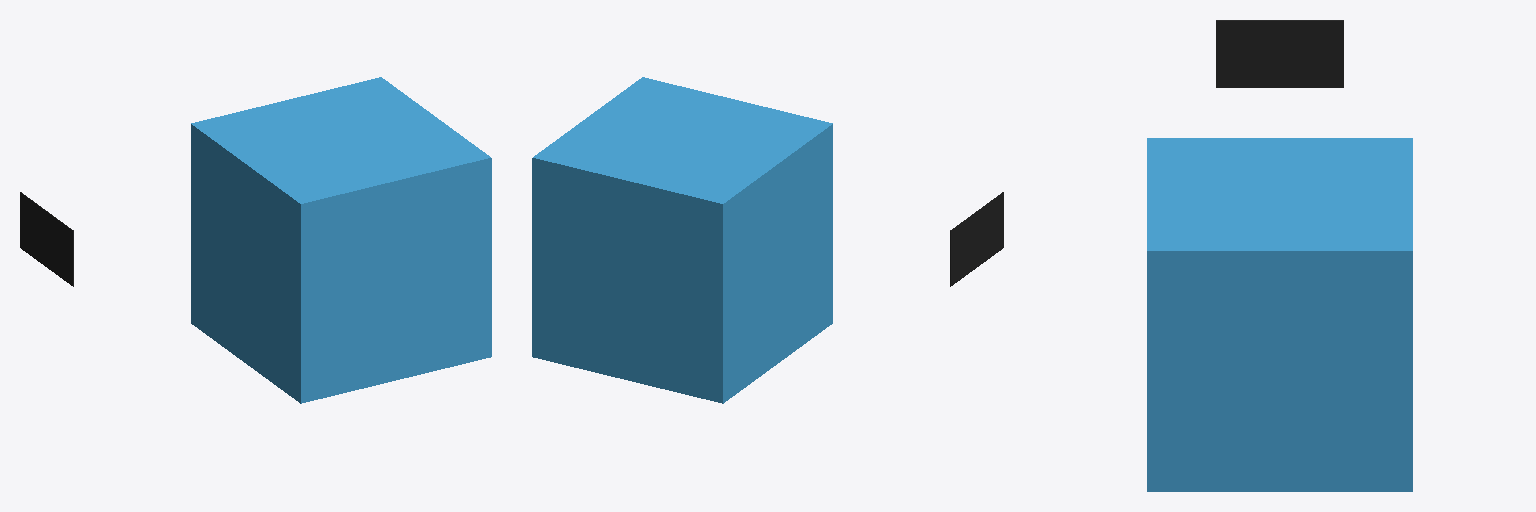
robot.urdf — combined:
<?xml version="1.0" encoding="utf-8"?>
<!-- =================================================================================== -->
<!-- |    This document was autogenerated by xacro from ur5_robot.urdf.xacro           | -->
<!-- |    EDITING THIS FILE BY HAND IS NOT RECOMMENDED                                 | -->
<!-- =================================================================================== -->
<robot name="combined">
  <!--robots pose-->
  <link name="world"/>
  <joint name="sawyer_pose" type="fixed">
    <origin rpy="0 0 0" xyz="0. 0. .9"/><!--sawyer base-->
    <parent link="world"/>
    <child link="sawyer_pedestal"/>
  </joint>

  <link name="obstacle">
    <inertial>
      <mass value="0"/>
      <origin rpy="0 0 0" xyz="0 0 0"/>
      <inertia ixx="0" ixy="0" ixz="0" iyy="0" iyz="0" izz="0"/>
    </inertial>
    <collision>
      <origin rpy="0 0 0" xyz="0  0     0"/>
      <geometry>
        <box size="0.5 0.5 0.5"/>
      </geometry>
    </collision>
    <visual>
      <origin rpy="0 0 0" xyz="0    0    0"/>
      <geometry>
        <box size="0.5 0.5 0.5"/>
      </geometry>
    </visual>
  </link>
  <joint name="obstacle_joint" type="fixed">
    <parent link="world"/>
    <child link="obstacle"/>
    <origin rpy="0 0 0" xyz="0.8 0.0 1.2"/>
  </joint>


<!-- robot urdf start here -->
  <material name="black">
    <color rgba="0 0 0 1"/>
  </material>
  <material name="darkgray">
    <color rgba=".2 .2 .2 1"/>
  </material>
  <material name="darkred">
    <color rgba=".5 .1 .1 1"/>
  </material>
  <material name="sawyer_red">
    <color rgba=".5 .1 .1 1"/>
  </material>
  <material name="sawyer_gray">
    <color rgba="0.75294 0.75294 0.75294 1"/>
  </material>
  <link name="sawyer_pedestal"/>
  <link name="torso">
    <visual>
      <origin rpy="0 0 0" xyz="0 0 0"/>
      <geometry>
        <box size="0.001 0.001 0.001"/>
      </geometry>
      <material name="darkgray">
        <color rgba=".2 .2 .2 1"/>
      </material>
    </visual>
    <inertial>
      <origin rpy="0 0 0" xyz="0.000000 0.000000 0.000000"/>
      <mass value="0.0001"/>
      <inertia ixx="1e-08" ixy="0" ixz="0" iyy="1e-08" iyz="0" izz="1e-08"/>
    </inertial>
  </link>
  <link name="pedestal">
    <visual>
      <origin rpy="1.57079632679 0 -1.57079632679" xyz="0.26 0.345 -0.91488"/>
      <geometry>
        <mesh filename="[local-path]/RR_Project/simulation/models/sawyer/meshes/sawyer_pv/pedestal.DAE"/>
      </geometry>
      <material name="darkgray"/>
    </visual>
    <collision>
      <origin rpy="0 0 0" xyz="-0.02 0 -0.29"/>
      <geometry>
        <cylinder length="0.62" radius="0.18"/>
      </geometry>
    </collision>
    <inertial>
      <origin rpy="0 0 0" xyz="0 0 -0.5"/>
      <mass value="60.86397744"/>
      <inertia ixx="5.0635929" ixy="0.00103417" ixz="0.80199628" iyy="6.08689388" iyz="0.00105311" izz="4.96191932"/>
    </inertial>
  </link>
  <link name="controller_box">
    <collision>
      <origin rpy="0 0 0" xyz="-0.325 0 -0.38"/>
      <geometry>
        <box size="0.22 0.4 0.53"/>
      </geometry>
    </collision>
  </link>
  <joint name="controller_box_fixed" type="fixed">
    <origin rpy="0 0 0" xyz="0.0 0.0 0.0"/>
    <parent link="sawyer_pedestal"/>
    <child link="controller_box"/>
  </joint>
  <link name="pedestal_feet">
    <collision>
      <origin rpy="0 0 0" xyz="-0.1225 0 -0.758"/>
      <geometry>
        <box size="0.77 0.7 0.31"/>
      </geometry>
    </collision>
  </link>
  <joint name="pedestal_feet_fixed" type="fixed">
    <origin rpy="0 0 0" xyz="0.0 0.0 0.0"/>
    <parent link="sawyer_pedestal"/>
    <child link="pedestal_feet"/>
  </joint>
  <joint name="pedestal_fixed" type="fixed">
    <origin rpy="0 0 0" xyz="0.0 0.0 0.0"/>
    <parent link="sawyer_pedestal"/>
    <child link="pedestal"/>
  </joint>
  <joint name="right_arm_mount" type="fixed">
    <origin rpy="0 0 0" xyz="0.0 0.0 0.0"/>
    <parent link="sawyer_pedestal"/>
    <child link="right_arm_base_link"/>
  </joint>
  <joint name="torso_t0" type="fixed">
    <origin rpy="0 0 0" xyz="0 0 0"/>
    <parent link="sawyer_pedestal"/>
    <child link="torso"/>
  </joint>
  <link name="right_arm_base_link">
    <inertial>
      <origin rpy="0 0 0" xyz="-0.0006241 -2.8025E-05 0.065404"/>
      <mass value="2.0687"/>
      <inertia ixx="0.0067599" ixy="-4.2024E-05" ixz="-6.1904E-07" iyy="0.0067877" iyz="1.5888E-05" izz="0.0074031"/>
    </inertial>
    <visual>
      <origin rpy="0 0 0" xyz="0 0 0"/>
      <geometry>
        <mesh filename="[local-path]/RR_Project/simulation/models/sawyer/meshes/sawyer_pv/base.DAE"/>
      </geometry>
      <material name="sawyer_red"/>
    </visual>
    <collision>
      <origin rpy="0 0 0" xyz="0 0 0.12"/>
      <geometry>
        <cylinder length="0.24" radius="0.08"/>
      </geometry>
    </collision>
  </link>
  <link name="right_l0">
    <inertial>
      <origin rpy="0 0 0" xyz="0.024366 0.010969 0.14363"/>
      <mass value="5.3213"/>
      <inertia ixx="0.053314" ixy="0.0047093" ixz="0.011734" iyy="0.057902" iyz="0.0080179" izz="0.023659"/>
    </inertial>
    <visual>
      <origin rpy="0 0 0" xyz="0 0 0"/>
      <geometry>
        <mesh filename="[local-path]/RR_Project/simulation/models/sawyer/meshes/sawyer_mp3/l0.DAE"/>
      </geometry>
      <material name="sawyer_red"/>
    </visual>
    <collision>
      <origin rpy="0 0 0" xyz="0.08 0 0.23"/>
      <geometry>
        <sphere radius="0.07"/>
      </geometry>
    </collision>
  </link>
  <joint name="right_j0" type="revolute">
    <origin rpy="0 0 0" xyz="0 0 0.08"/>
    <parent link="right_arm_base_link"/>
    <child link="right_l0"/>
    <axis xyz="0 0 1"/>
    <limit effort="80.0" lower="-3.0503" upper="3.0503" velocity="1.74"/>
  </joint>
  <link name="head">
    <inertial>
      <origin rpy="0 0 0" xyz="0.0053207 -2.6549E-05 0.1021"/>
      <mass value="1.5795"/>
      <inertia ixx="0.011833" ixy="-4.4669E-06" ixz="4.9425E-05" iyy="0.0082709" iyz="4.2124E-07" izz="0.0049661"/>
    </inertial>
    <visual>
      <origin rpy="0 0 0" xyz="0 0 0"/>
      <geometry>
        <mesh filename="[local-path]/RR_Project/simulation/models/sawyer/meshes/sawyer_pv/head.DAE"/>
      </geometry>
      <material name="sawyer_red"/>
    </visual>
    <collision>
      <origin rpy="0 0 0" xyz="0 0 0.08"/>
      <geometry>
        <sphere radius="0.18"/>
      </geometry>
    </collision>
  </link>
  <joint name="head_pan" type="revolute">
    <origin rpy="0 0 0" xyz="0 0 0.2965"/>
    <parent link="right_l0"/>
    <child link="head"/>
    <axis xyz="0 0 1"/>
    <limit effort="8" lower="-5.0952" upper="0.9064" velocity="1.8"/>
  </joint>
  <link name="right_torso_itb">
    <inertial>
      <origin rpy="0 0 0" xyz="0.000000 0.000000 0.000000"/>
      <mass value="0.0001"/>
      <inertia ixx="1e-08" ixy="0" ixz="0" iyy="1e-08" iyz="0" izz="1e-08"/>
    </inertial>
  </link>
  <joint name="right_torso_itb" type="fixed">
    <origin rpy="0 -1.57079632679 0" xyz="-.055 0 .22"/>
    <parent link="right_l0"/>
    <child link="right_torso_itb"/>
    <axis xyz="0 0 1"/>
  </joint>
  <link name="right_l1">
    <inertial>
      <origin rpy="0 0 0" xyz="-0.0030849 -0.026811 0.092521"/>
      <mass value="4.505"/>
      <inertia ixx="0.022398" ixy="-0.00023986" ixz="-0.00029362" iyy="0.014613" iyz="-0.0060875" izz="0.017295"/>
    </inertial>
    <visual>
      <origin rpy="0 0 0" xyz="0 0 0"/>
      <geometry>
        <mesh filename="[local-path]/RR_Project/simulation/models/sawyer/meshes/sawyer_mp3/l1.DAE"/>
      </geometry>
      <material name="sawyer_red"/>
    </visual>
    <collision>
      <origin rpy="0 0 0" xyz="0 0 0.1225"/>
      <geometry>
        <sphere radius="0.07"/>
      </geometry>
    </collision>
  </link>
  <joint name="right_j1" type="revolute">
    <origin rpy="-1.57079632679 1.57079632679 0" xyz="0.081 0.05 0.237"/>
    <parent link="right_l0"/>
    <child link="right_l1"/>
    <axis xyz="0 0 1"/>
    <limit effort="80.0" lower="-3.8095" upper="2.2736" velocity="1.328"/>
  </joint>
  <link name="right_l2">
    <inertial>
      <origin rpy="0 0 0" xyz="-0.00016044 -0.014967 0.13582"/>
      <mass value="1.745"/>
      <inertia ixx="0.025506" ixy="4.4101E-06" ixz="1.4955E-05" iyy="0.0253" iyz="-0.0033204" izz="0.0034179"/>
    </inertial>
    <visual>
      <origin rpy="0 0 0" xyz="0 0 0"/>
      <geometry>
        <mesh filename="[local-path]/RR_Project/simulation/models/sawyer/meshes/sawyer_pv/l2.DAE"/>
      </geometry>
      <material name="sawyer_red"/>
    </visual>
    <collision>
      <origin rpy="0 0 0" xyz="0 0 0.08"/>
      <geometry>
        <cylinder length="0.34" radius="0.06"/>
      </geometry>
    </collision>
  </link>
  <joint name="right_j2" type="revolute">
    <origin rpy="1.57079632679 0 0" xyz="0 -0.14 0.1425"/>
    <parent link="right_l1"/>
    <child link="right_l2"/>
    <axis xyz="0 0 1"/>
    <limit effort="40.0" lower="-3.0426" upper="3.0426" velocity="1.957"/>
  </joint>
  <link name="right_l3">
    <inertial>
      <origin rpy="0 0 0" xyz="-0.0048135 -0.0281 -0.084154"/>
      <mass value="2.5097"/>
      <inertia ixx="0.01016" ixy="-9.7452E-06" ixz="0.00026624" iyy="0.0065685" iyz="0.0030316" izz="0.0069078"/>
    </inertial>
    <visual>
      <origin rpy="0 0 0" xyz="0 0 0"/>
      <geometry>
        <mesh filename="[local-path]/RR_Project/simulation/models/sawyer/meshes/sawyer_pv/l3.DAE"/>
      </geometry>
      <material name="sawyer_red"/>
    </visual>
    <collision>
      <origin rpy="0 0 0" xyz="0 -0.01 -0.12"/>
      <geometry>
        <sphere radius="0.06"/>
      </geometry>
    </collision>
  </link>
  <joint name="right_j3" type="revolute">
    <origin rpy="-1.57079632679 0 0" xyz="0 -0.042 0.26"/>
    <parent link="right_l2"/>
    <child link="right_l3"/>
    <axis xyz="0 0 1"/>
    <limit effort="40.0" lower="-3.0439" upper="3.0439" velocity="1.957"/>
  </joint>
  <link name="right_l4">
    <inertial>
      <origin rpy="0 0 0" xyz="-0.0018844 0.0069001 0.1341"/>
      <mass value="1.1136"/>
      <inertia ixx="0.013557" ixy="1.8109E-05" ixz="0.00013523" iyy="0.013555" iyz="0.0010561" izz="0.0013658"/>
    </inertial>
    <visual>
      <origin rpy="0 0 0" xyz="0 0 0"/>
      <geometry>
        <mesh filename="[local-path]/RR_Project/simulation/models/sawyer/meshes/sawyer_pv/l4.DAE"/>
      </geometry>
      <material name="sawyer_red"/>
    </visual>
    <collision>
      <origin rpy="0 0 0" xyz="0 0 0.11"/>
      <geometry>
        <cylinder length="0.30" radius="0.045"/>
      </geometry>
    </collision>
  </link>
  <joint name="right_j4" type="revolute">
    <origin rpy="1.57079632679 0 0" xyz="0 -0.125 -0.1265"/>
    <parent link="right_l3"/>
    <child link="right_l4"/>
    <axis xyz="0 0 1"/>
    <limit effort="9.0" lower="-2.9761" upper="2.9761" velocity="3.485"/>
  </joint>
  <link name="right_arm_itb">
    <inertial>
      <origin rpy="0 0 0" xyz="0.000000 0.000000 0.000000"/>
      <mass value="0.0001"/>
      <inertia ixx="1e-08" ixy="0" ixz="0" iyy="1e-08" iyz="0" izz="1e-08"/>
    </inertial>
  </link>
  <joint name="right_arm_itb" type="fixed">
    <origin rpy="0 -1.57079632679 0" xyz="-.055 0 .075"/>
    <parent link="right_l4"/>
    <child link="right_arm_itb"/>
    <axis xyz="0 0 1"/>
  </joint>
  <link name="right_l5">
    <inertial>
      <origin rpy="0 0 0" xyz="0.0061133 -0.023697 0.076416"/>
      <mass value="1.5625"/>
      <inertia ixx="0.0047328" ixy="0.00011526" ixz="4.6269E-05" iyy="0.0029676" iyz="-0.0011557" izz="0.0031762"/>
    </inertial>
    <visual>
      <origin rpy="0 0 0" xyz="0 0 0"/>
      <geometry>
        <mesh filename="[local-path]/RR_Project/simulation/models/sawyer/meshes/sawyer_pv/l5.DAE"/>
      </geometry>
      <material name="sawyer_red"/>
    </visual>
    <collision>
      <origin rpy="0 0 0" xyz="0 0 0.1"/>
      <geometry>
        <sphere radius="0.06"/>
      </geometry>
    </collision>
  </link>
  <joint name="right_j5" type="revolute">
    <origin rpy="-1.57079632679 0 0" xyz="0 0.031 0.275"/>
    <parent link="right_l4"/>
    <child link="right_l5"/>
    <axis xyz="0 0 1"/>
    <limit effort="9.0" lower="-2.9761" upper="2.9761" velocity="3.485"/>
  </joint>
  <link name="right_hand_camera"/>
  <joint name="right_hand_camera" type="fixed">
    <origin rpy="0 1.57079632679 0" xyz="0.039552 -0.033 0.0695"/>
    <parent link="right_l5"/>
    <child link="right_hand_camera"/>
    <axis xyz="0 0 0"/>
  </joint>
  <link name="right_wrist"/>
  <joint name="right_wrist" type="fixed">
    <origin rpy="1.57079632679 0 0" xyz="0 0 0.10541"/>
    <parent link="right_l5"/>
    <child link="right_wrist"/>
    <axis xyz="0 0 0"/>
  </joint>
  <link name="right_l6">
    <inertial>
      <origin rpy="0 0 0" xyz="-8.0726E-06 0.0085838 -0.0049566"/>
      <mass value="0.3292"/>
      <inertia ixx="0.00031105" ixy="1.4771E-06" ixz="-3.7074E-07" iyy="0.00021549" iyz="-8.4533E-06" izz="0.00035976"/>
    </inertial>
    <visual>
      <origin rpy="0 0 0" xyz="0 0 0"/>
      <geometry>
        <mesh filename="[local-path]/RR_Project/simulation/models/sawyer/meshes/sawyer_mp1/l6.DAE"/>
      </geometry>
      <material name="sawyer_red"/>
    </visual>
    <collision>
      <origin rpy="0 0 0" xyz="0 0.015 -0.01"/>
      <geometry>
        <cylinder length="0.05" radius="0.055"/>
      </geometry>
    </collision>
  </link>
  <joint name="right_j6" type="revolute">
    <origin rpy="-1.57079632679 -0.17453 3.1416" xyz="0 -0.11 0.1053"/>
    <parent link="right_l5"/>
    <child link="right_l6"/>
    <axis xyz="0 0 1"/>
    <limit effort="9.0" lower="-4.7124" upper="4.7124" velocity="4.545"/>
  </joint>
  <link name="right_hand">
    <collision>
      <origin rpy="0 0 0" xyz="0 0 0.02"/>
      <geometry>
        <cylinder length="0.03" radius="0.035"/>
      </geometry>
    </collision>
    <inertial>
      <origin rpy="0 0 0" xyz="1.0E-08 1.0E-08 1.0E-08"/>
      <mass value="1.0E-08"/>
      <inertia ixx="1.0E-08" ixy="1.0E-08" ixz="1.0E-08" iyy="1.0E-08" iyz="1.0E-08" izz="1.0E-08"/>
    </inertial>
  </link>
  <joint name="right_hand" type="fixed">
    <origin rpy="0 0 1.570796" xyz="0 0 0.0245"/>
    <axis xyz="0 0 1"/>
    <parent link="right_l6"/>
    <child link="right_hand"/>
  </joint>
  <link name="right_l1_2">
    <inertial>
      <origin rpy="0 0 0" xyz="1.0E-08 1.0E-08 1.0E-08"/>
      <mass value="1.0E-08"/>
      <inertia ixx="1.0E-08" ixy="1.0E-08" ixz="1.0E-08" iyy="1.0E-08" iyz="1.0E-08" izz="1.0E-08"/>
    </inertial>
    <collision>
      <origin rpy="0 0 0" xyz="0 0 0.035"/>
      <geometry>
        <cylinder length="0.14" radius="0.07"/>
      </geometry>
    </collision>
  </link>
  <joint name="right_j1_2" type="fixed">
    <origin rpy="0 0 0" xyz="0 0 0"/>
    <parent link="right_l1"/>
    <child link="right_l1_2"/>
    <axis xyz="0 0 1"/>
  </joint>
  <link name="right_l2_2">
    <inertial>
      <origin rpy="0 0 0" xyz="1.0E-08 1.0E-08 1.0E-08"/>
      <mass value="1.0E-08"/>
      <inertia ixx="1.0E-08" ixy="1.0E-08" ixz="1.0E-08" iyy="1.0E-08" iyz="1.0E-08" izz="1.0E-08"/>
    </inertial>
    <collision>
      <origin rpy="0 0 0" xyz="0 0 0.26"/>
      <geometry>
        <sphere radius="0.06"/>
      </geometry>
    </collision>
  </link>
  <joint name="right_j2_2" type="fixed">
    <origin rpy="0 0 0" xyz="0 0 0"/>
    <parent link="right_l2"/>
    <child link="right_l2_2"/>
    <axis xyz="0 0 1"/>
  </joint>
  <link name="right_l4_2">
    <inertial>
      <origin rpy="0 0 0" xyz="1.0E-08 1.0E-08 1.0E-08"/>
      <mass value="1.0E-08"/>
      <inertia ixx="1.0E-08" ixy="1.0E-08" ixz="1.0E-08" iyy="1.0E-08" iyz="1.0E-08" izz="1.0E-08"/>
    </inertial>
    <collision>
      <origin rpy="0 0 0" xyz="0 0.01 0.26"/>
      <geometry>
        <sphere radius="0.06"/>
      </geometry>
    </collision>
  </link>
  <joint name="right_j4_2" type="fixed">
    <origin rpy="0 0 0" xyz="0 0 0"/>
    <parent link="right_l4"/>
    <child link="right_l4_2"/>
    <axis xyz="0 0 1"/>
  </joint>
  <link name="screen">
    <visual>
      <origin rpy="0 0 0" xyz="0 0 0"/>
      <geometry>
        <box size="0.24 0.14 0.002"/>
      </geometry>
      <material name="darkgray"/>
    </visual>
    <collision>
      <origin rpy="0 0 0" xyz="0 0 0"/>
      <geometry>
        <sphere radius="0.001"/>
      </geometry>
    </collision>
    <inertial>
      <origin rpy="0 0 0" xyz="0 0 0"/>
      <mass value="0.0001"/>
      <inertia ixx="1e-08" ixy="0" ixz="0" iyy="1e-08" iyz="0" izz="1e-08"/>
    </inertial>
  </link>
  <joint name="display_joint" type="fixed">
    <origin rpy="1.57079632679 0 1.57079632679" xyz="0.03 0.0 0.105"/>
    <parent link="head"/>
    <child link="screen"/>
  </joint>
  <link name="head_camera"/>
  <joint name="head_camera" type="fixed">
    <origin rpy="-2.1293 0 -1.57079632679" xyz="0.0228027 0 0.216572"/>
    <parent link="head"/>
    <child link="head_camera"/>
    <axis xyz="0 0 0"/>
  </joint>


</robot>

--- Facts derived from the render (not from the file) ---
Views: 3 orthographic renders of the robot side by side, from view 1: azimuth 30°, elevation 25°; view 2: azimuth 150°, elevation 25°; view 3: azimuth 270°, elevation 25°.
Model combined with 26 links and 25 joints (8 revolute, 17 fixed), rooted at world, posed every joint at zero.
Links seen in each view (by area): view 1: obstacle, screen; view 2: obstacle, screen; view 3: obstacle, screen.
Boxes of the visible links, <box> form: obstacle: <box>191,77,491,403</box>; screen: <box>20,192,73,286</box>; obstacle: <box>532,77,832,403</box>; screen: <box>950,192,1003,286</box>; obstacle: <box>1147,138,1412,491</box>; screen: <box>1216,20,1343,87</box>.
Size in the robot's own frame: 1.05 by 0.5 by 0.552 metres.
Geometry: only primitive shapes (box / cylinder / sphere) drawn; not drawn: 10 mesh visuals (reference in a form the renderer does not follow).